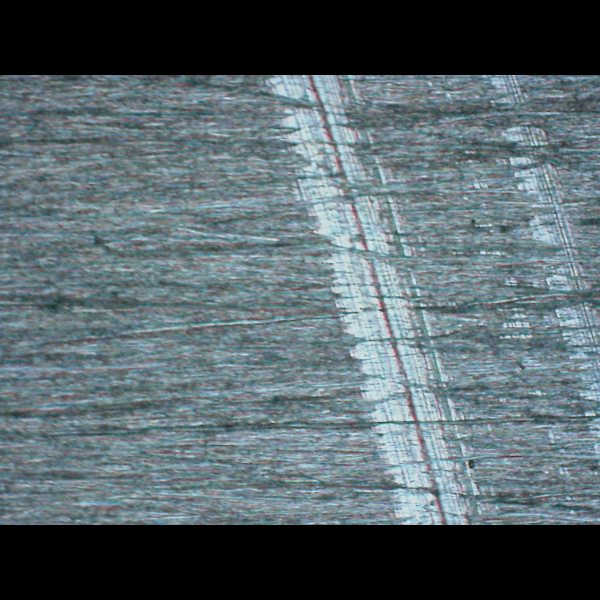d: (265, 75, 489, 523), (490, 77, 599, 458)
